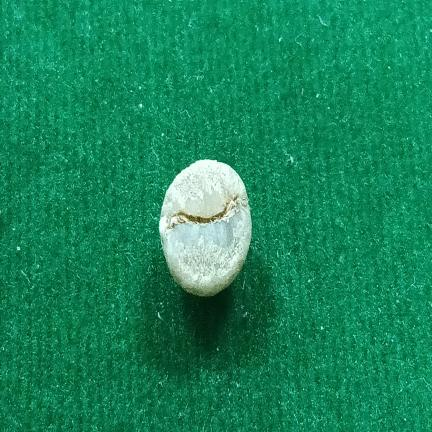good: (159, 160, 252, 296)
